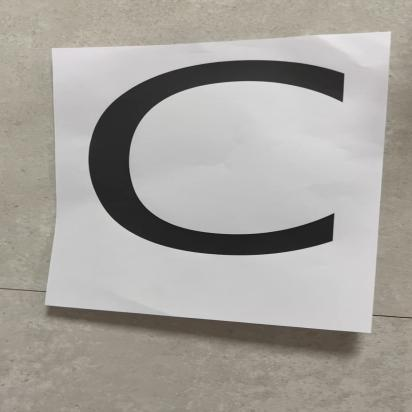seat: (54, 43, 372, 312)
